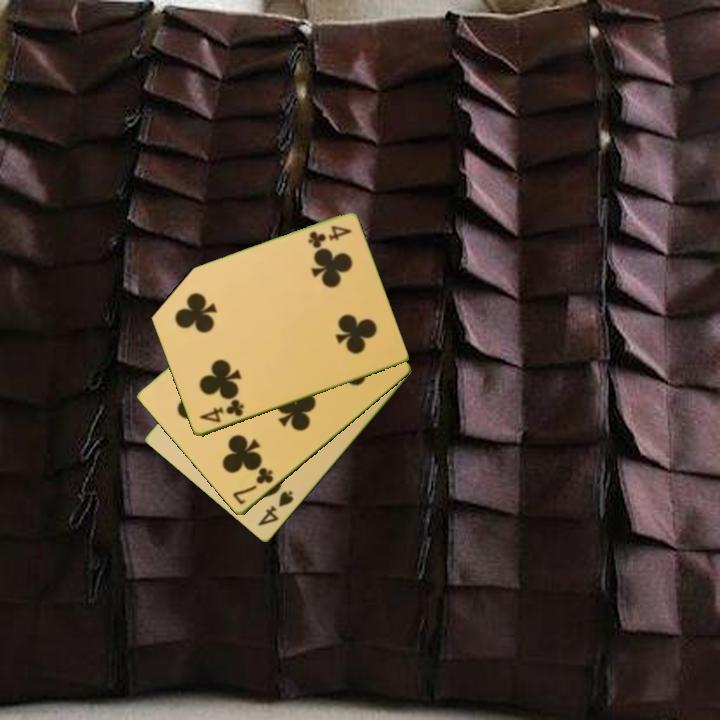4c: (196, 396, 247, 426), (304, 222, 355, 251)
4s: (254, 487, 297, 530)
7c: (229, 464, 276, 508)
